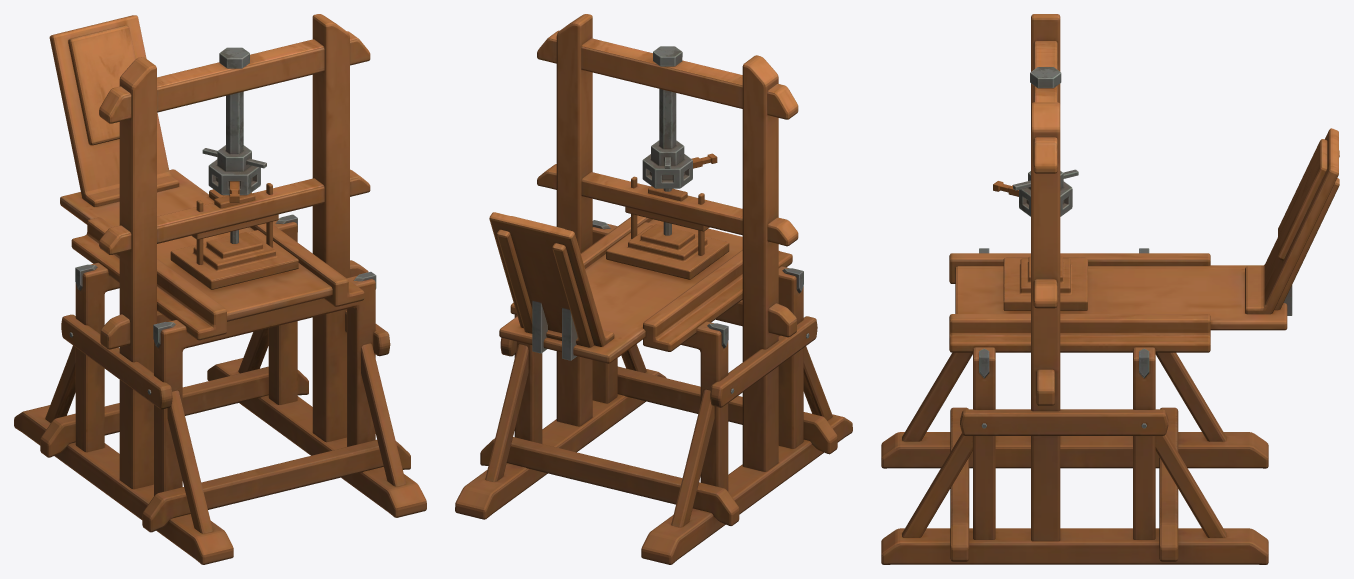
The model's file is gutenberg-press.glb.
The picture shows the model from 3 angles, left to right: view 1: azimuth 30°, elevation 25°; view 2: azimuth 150°, elevation 25°; view 3: azimuth 270°, elevation 25°; orthographic projection. The views are drawn at different scales.
Parts seen in each view (by area): view 1: imprenta_imp_madera.001_0, imprenta_imp_metal.001_0; view 2: imprenta_imp_madera.001_0, imprenta_imp_metal.001_0; view 3: imprenta_imp_madera.001_0, imprenta_imp_metal.001_0.
Part boxes in pixels (x1=…): imprenta_imp_madera.001_0: x1=14, y1=14, x2=426, y2=564; imprenta_imp_metal.001_0: x1=69, y1=47, x2=376, y2=394; imprenta_imp_madera.001_0: x1=455, y1=14, x2=852, y2=564; imprenta_imp_metal.001_0: x1=532, y1=46, x2=809, y2=393; imprenta_imp_madera.001_0: x1=881, y1=14, x2=1339, y2=564; imprenta_imp_metal.001_0: x1=979, y1=67, x2=1292, y2=428.
Size of the model in its own units: 4.58 by 7.36 by 6.79.
2 materials, 2 textured.
